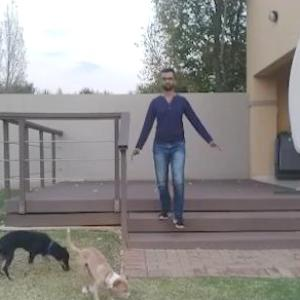land: (130, 73, 214, 230)
